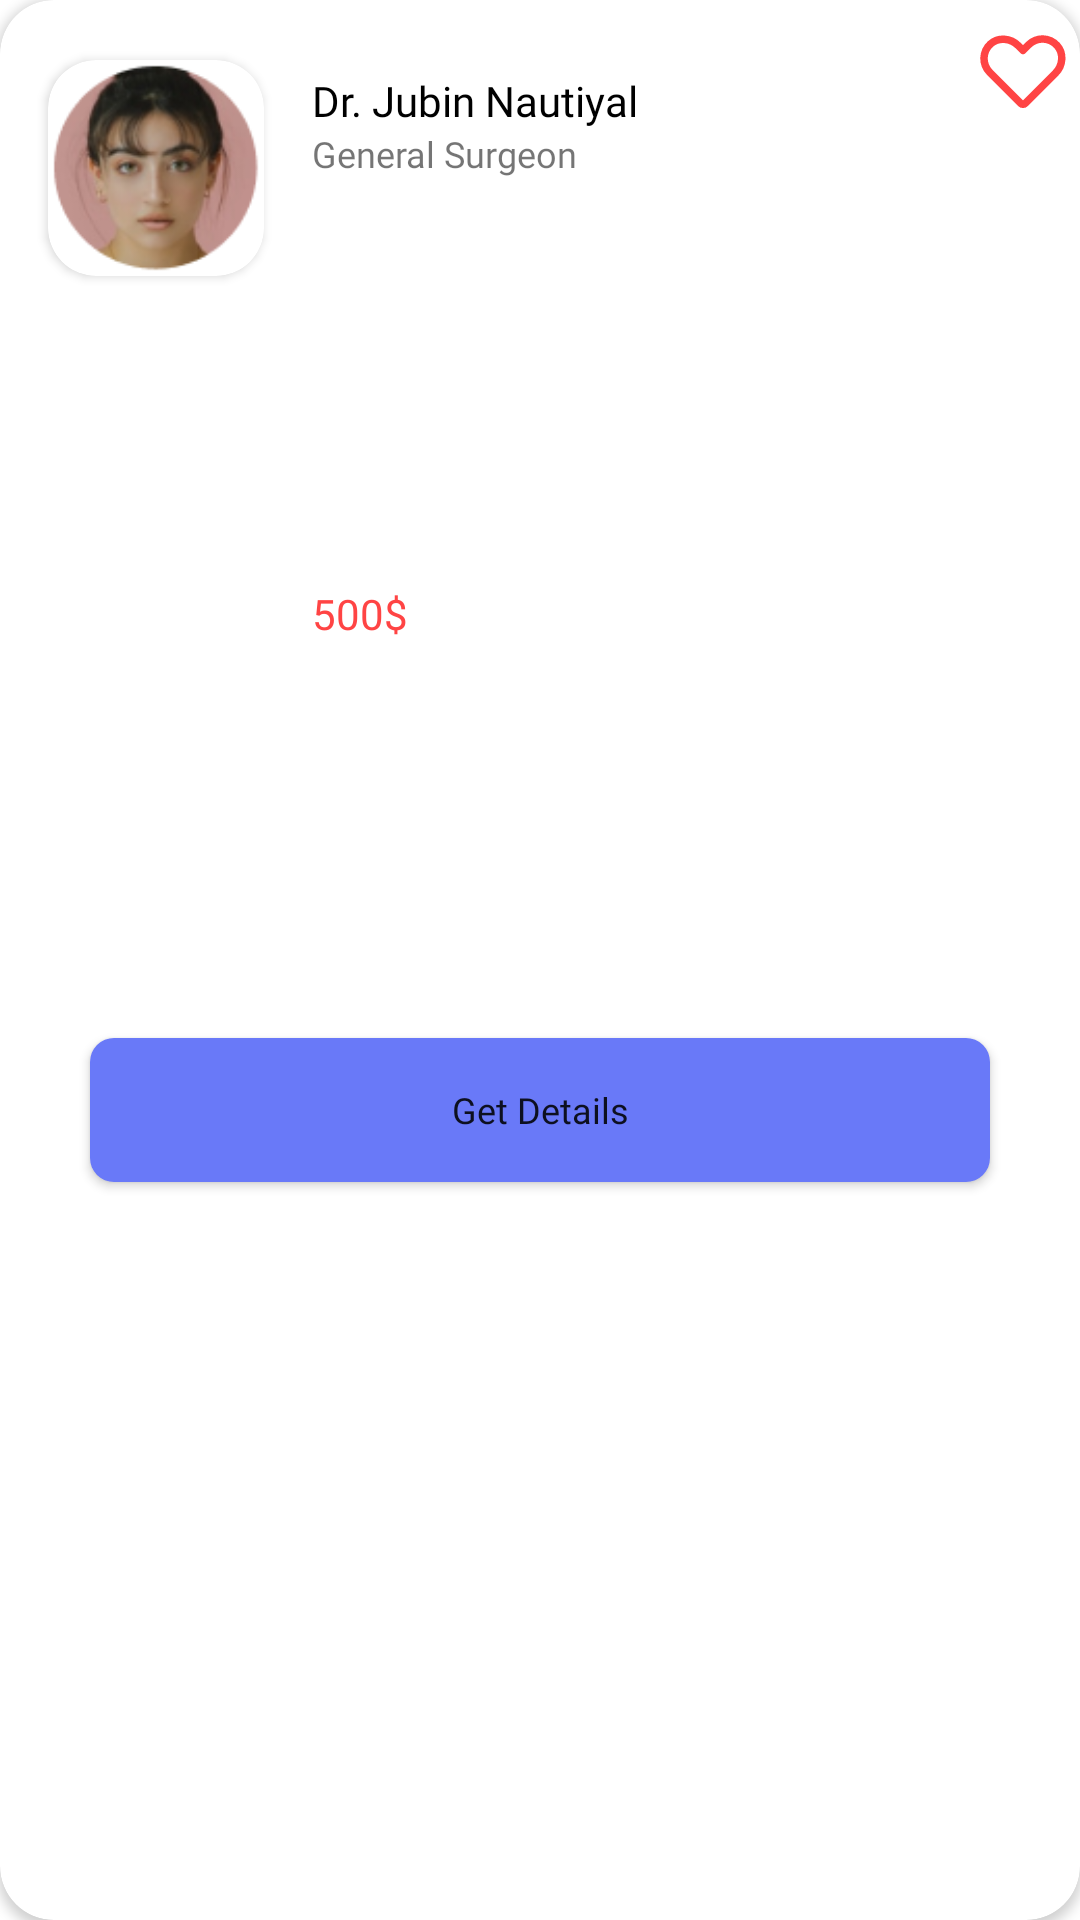

Icons on this 1080×1920 Android screen, each with the point to tap as [x,y]:
heartstraight: [1023,71]
Profile picture: [153,167]
